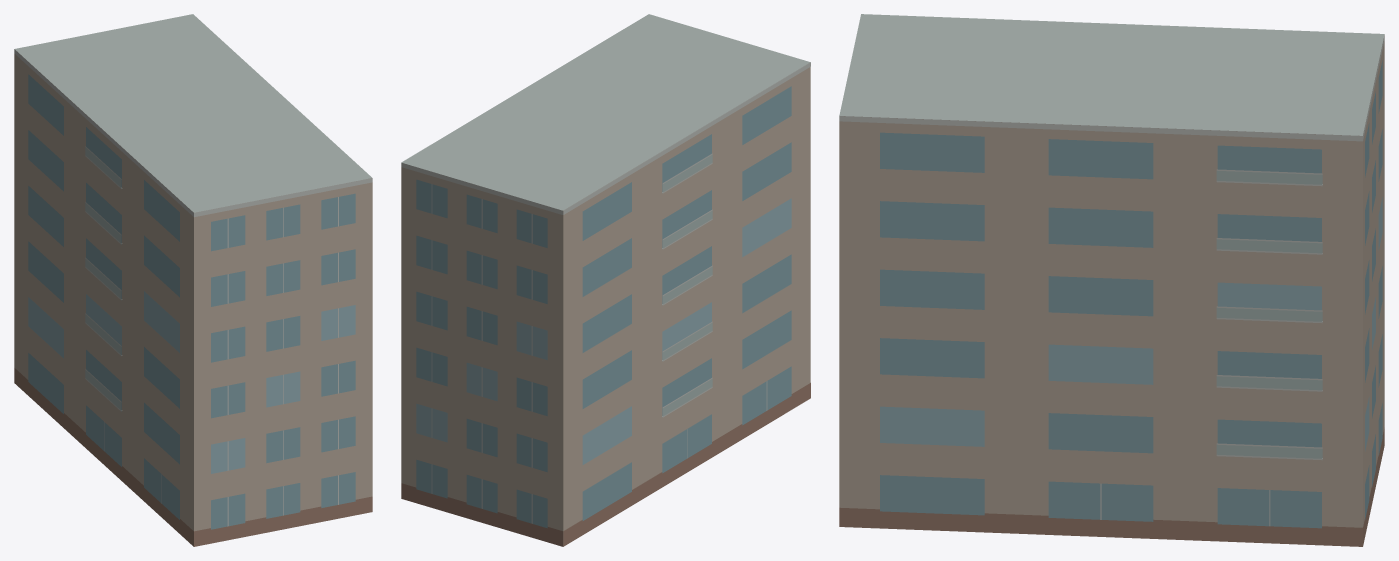
The model's file is residential-644c616f-6e18-4480-ba9d-996e98e1f9c2.glb.
3 views of the same model, side by side, from view 1: azimuth 30°, elevation 25°; view 2: azimuth 150°, elevation 25°; view 3: azimuth 270°, elevation 25° (orthographic). The views are drawn at different scales.
Parts seen in each view (by area): view 1: residential-644c616f-6e18-4480-ba9d-996e98e1f9c2.tmp; view 2: residential-644c616f-6e18-4480-ba9d-996e98e1f9c2.tmp; view 3: residential-644c616f-6e18-4480-ba9d-996e98e1f9c2.tmp.
Part boxes in pixels (x1,y1,x2,y2): residential-644c616f-6e18-4480-ba9d-996e98e1f9c2.tmp: (14, 14, 372, 546); residential-644c616f-6e18-4480-ba9d-996e98e1f9c2.tmp: (401, 14, 810, 546); residential-644c616f-6e18-4480-ba9d-996e98e1f9c2.tmp: (839, 14, 1384, 546).
Size of the model in its own units: 11.65 by 18.3 by 22.02.
